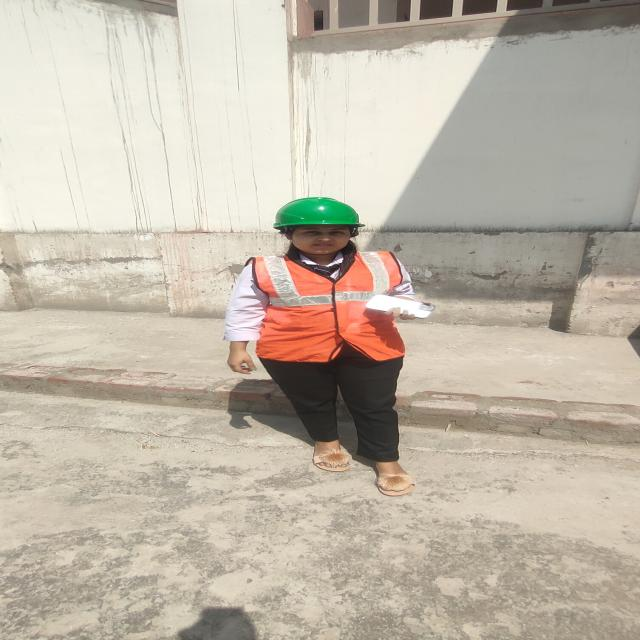safe: (228, 198, 436, 496)
